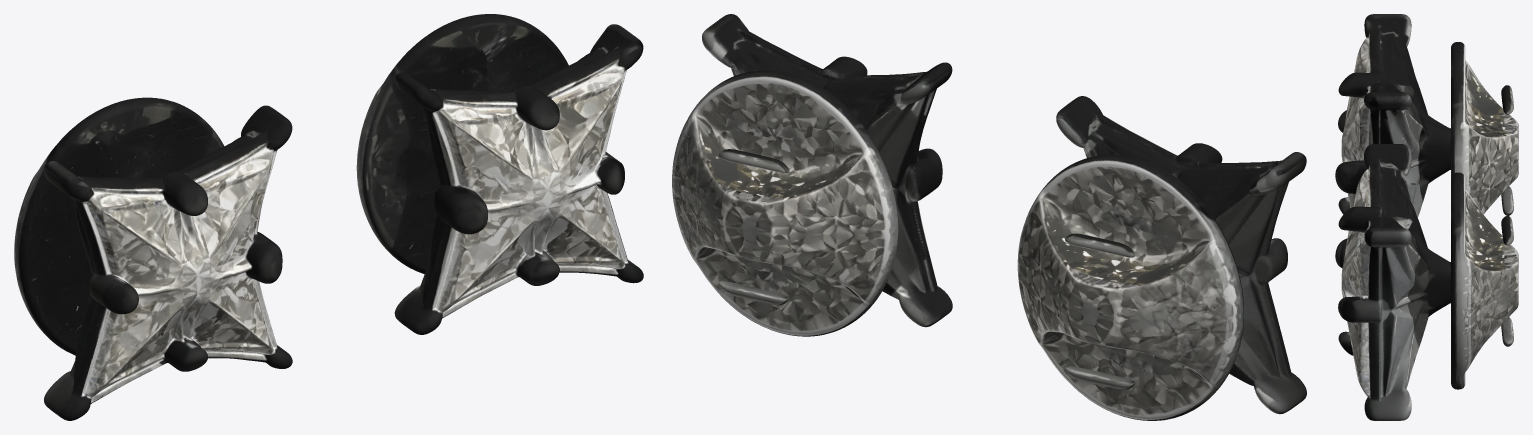
The model's file is heart-halo-drop-earrings-opt.glb.
3 views of the same model, side by side, from view 1: azimuth 30°, elevation 25°; view 2: azimuth 150°, elevation 25°; view 3: azimuth 270°, elevation 25° (orthographic). The views are drawn at different scales.
Visible parts, largest first — view 1: mesh_node; view 2: mesh_node; view 3: mesh_node.
Part boxes in pixels (x1,y1,x2,y2): mesh_node: (14,14,643,420); mesh_node: (672,14,1306,420); mesh_node: (1335,14,1518,420).
Size of the model in its own units: 1.9 by 0.8019 by 0.6654.
Materials: 1 (1 with a texture image).
